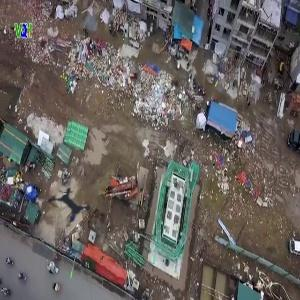drone: (22, 160, 116, 254)
